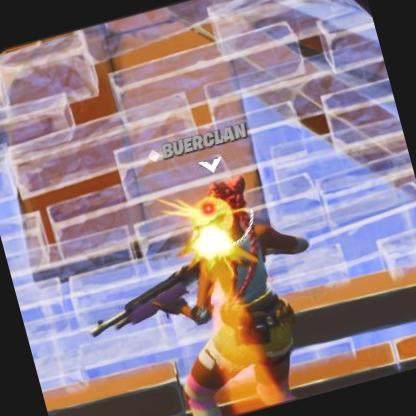person: (146, 166, 302, 415)
